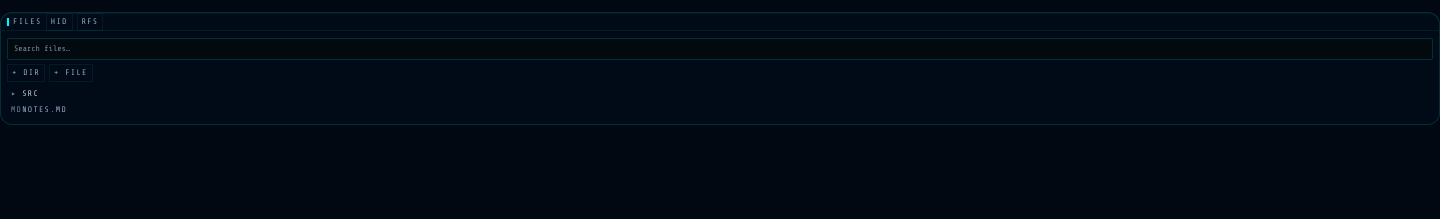
FileExplorer › shows a refused rename with the server's message and keeps the input
The width and height of the screenshot is (1440, 219).
Click the button "MD notes.md".
click(45, 110)  # box x1=5 y1=102 x2=1435 y2=118
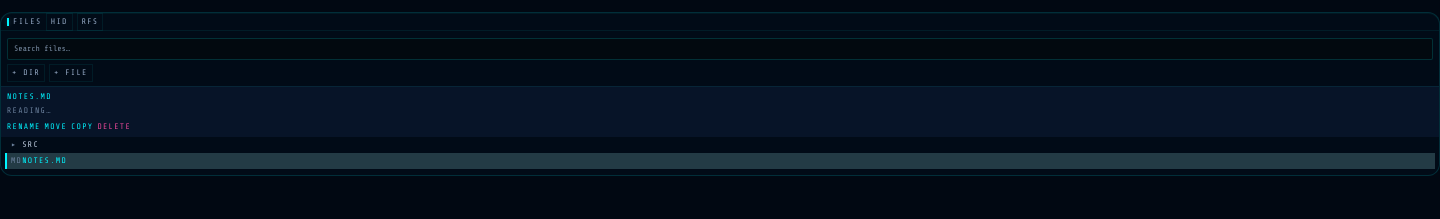
Click the button "Rename".
click(24, 127)  # box x1=7 y1=121 x2=41 y2=133
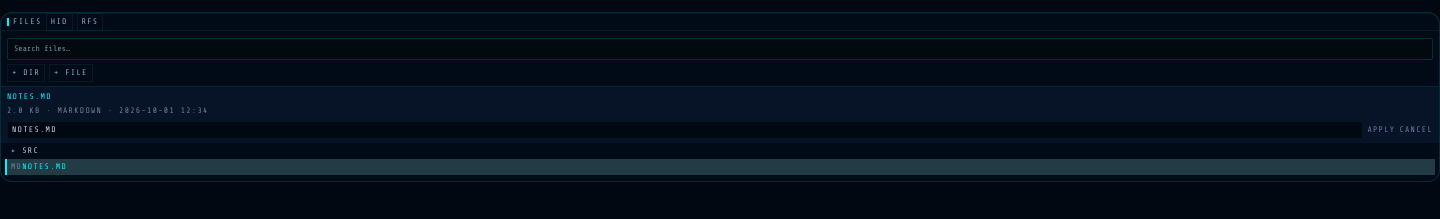
Replace the text in the field named "New name" with "nested/name.md" at (685,130), box x1=7 y1=121 x2=1363 y2=139
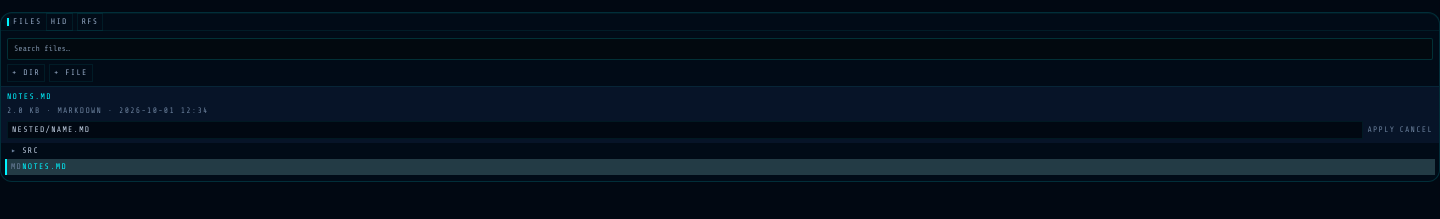
Submit the form named "New name", box x1=7 y1=121 x2=1433 y2=139
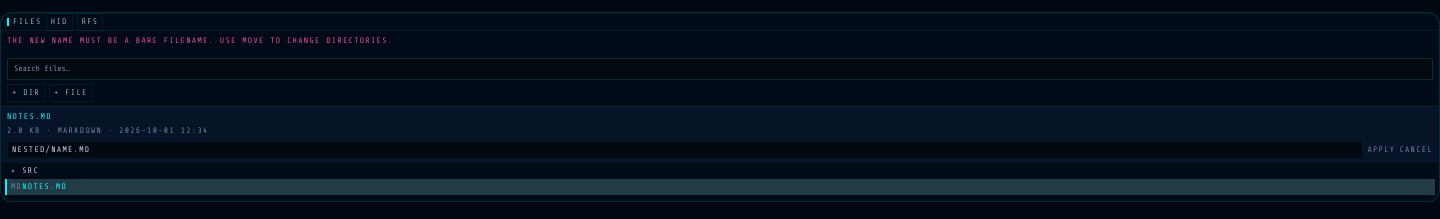
Expected: the message shows "bare filename", x1=7 y1=36 x2=393 y2=45
